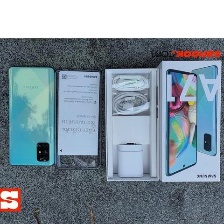book: (100, 63, 163, 184), (53, 67, 104, 158)
carton: (157, 57, 224, 185)
phone: (5, 63, 58, 168)
